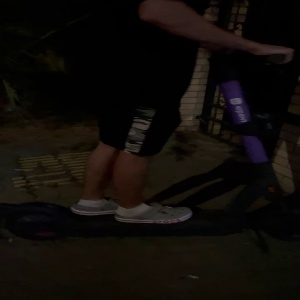human on a scooter: (1, 1, 300, 246)
